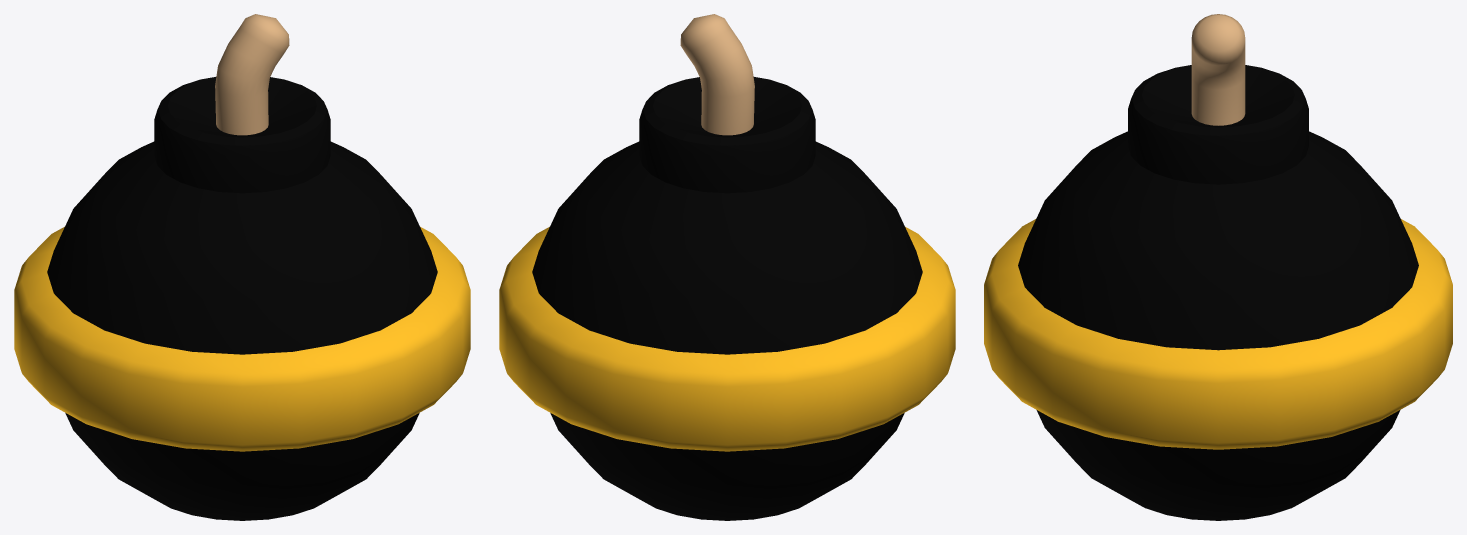
File: bomb_teamYellow.glb
3 renders of one model, left to right at view 1: azimuth 30°, elevation 25°; view 2: azimuth 150°, elevation 25°; view 3: azimuth 270°, elevation 25°, orthographic. The views are drawn at different scales.
Parts seen in each view (by area): view 1: bomb_teamYellow; view 2: bomb_teamYellow; view 3: bomb_teamYellow.
Boxes of the visible parts, <box> form: bomb_teamYellow: <box>14,14,470,520</box>; bomb_teamYellow: <box>499,14,955,520</box>; bomb_teamYellow: <box>984,14,1452,520</box>.
Size of the model in its own units: 0.3952 by 0.4602 by 0.3952.
